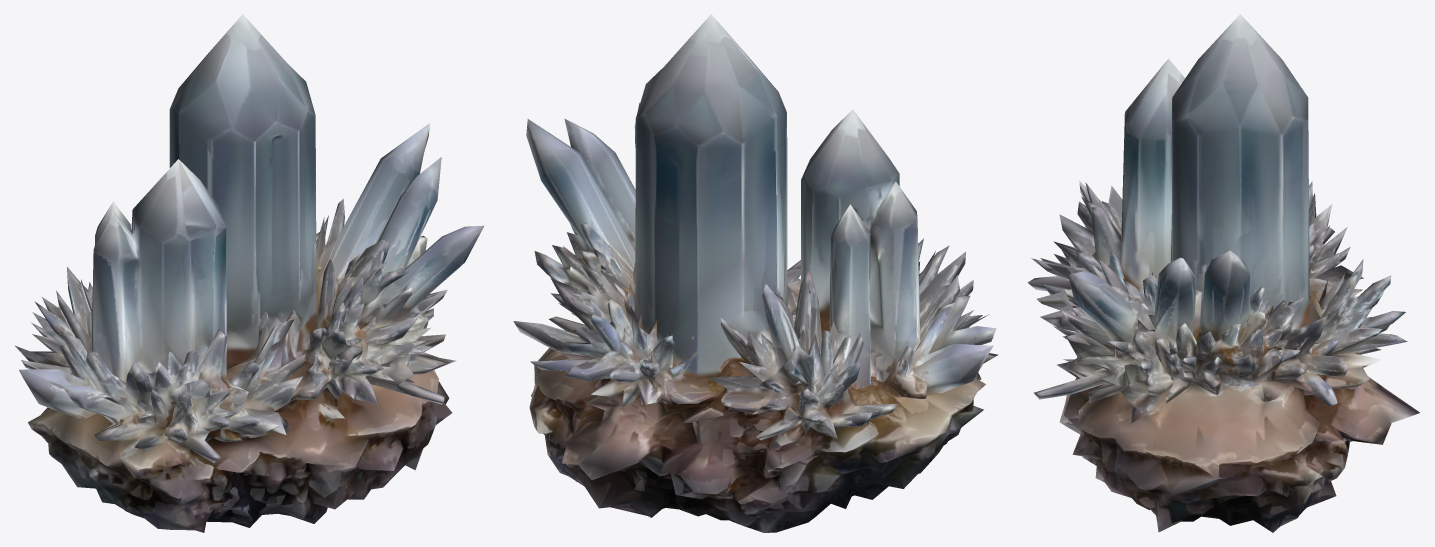
The model's file is sm_shuijingjingcu.fbx.
3 views of the same model, side by side, from view 1: azimuth 30°, elevation 25°; view 2: azimuth 150°, elevation 25°; view 3: azimuth 270°, elevation 25° (orthographic). The views are drawn at different scales.
Visible parts, largest first — view 1: mesh_node; view 2: mesh_node; view 3: mesh_node.
Boxes of the visible parts, x1,y1,x2,y2 form: mesh_node: (15, 14, 483, 532); mesh_node: (513, 14, 998, 532); mesh_node: (1027, 14, 1419, 532).
Size of the model in its own units: 1.86 by 1.97 by 1.48.
